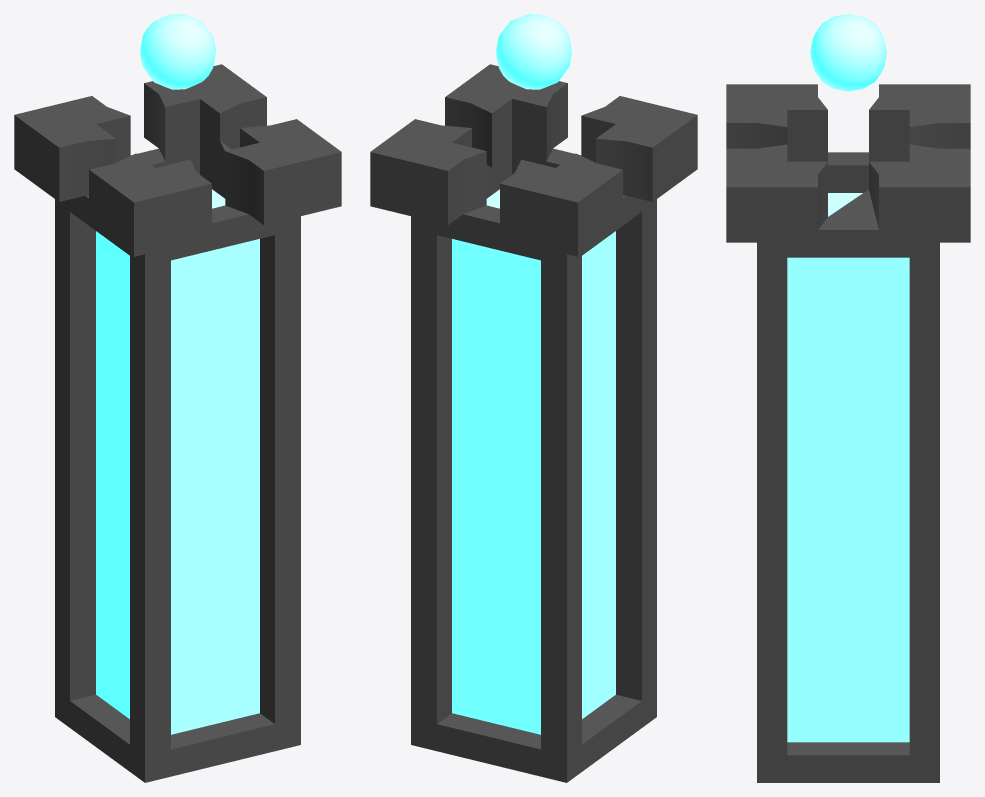
Rendered from eny.fbx.
3 views of the same model, side by side, from view 1: azimuth 30°, elevation 25°; view 2: azimuth 150°, elevation 25°; view 3: azimuth 270°, elevation 25° (orthographic).
Parts seen in each view (by area): view 1: Cube; view 2: Cube; view 3: Cube.
Boxes of the visible parts, x1,y1,x2,y2 form: Cube: (14,14,341,782); Cube: (370,14,697,782); Cube: (726,14,970,782).
Size of the model in its own units: 80 by 263 by 80.
